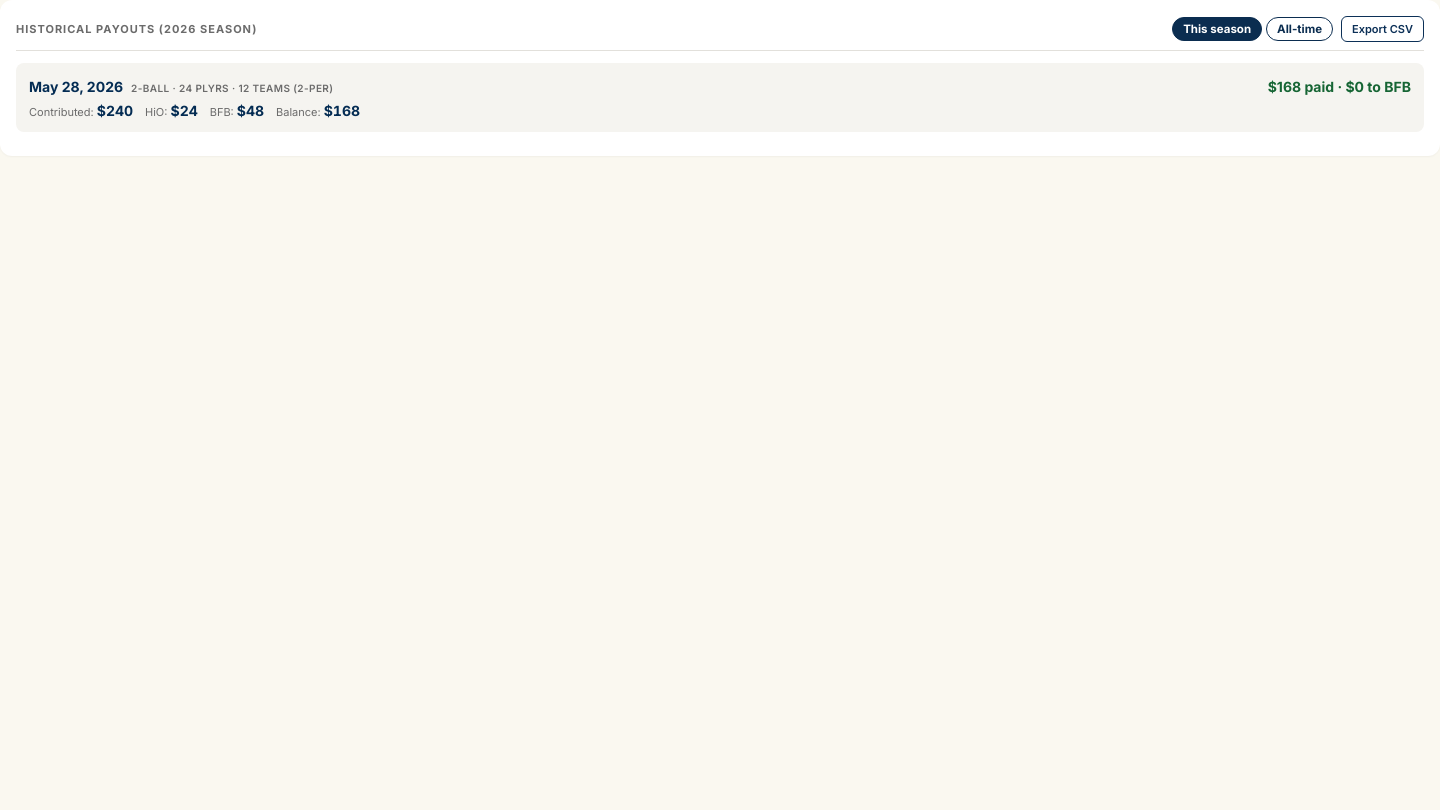
Test case: HistoryPanel › Edit opens the override modal (pre-filled) and gates confirm on a required reason
The image size is (1440, 810).
Click the element with test id "winnings-history-row" at (720, 98), box [16,63,1424,132]
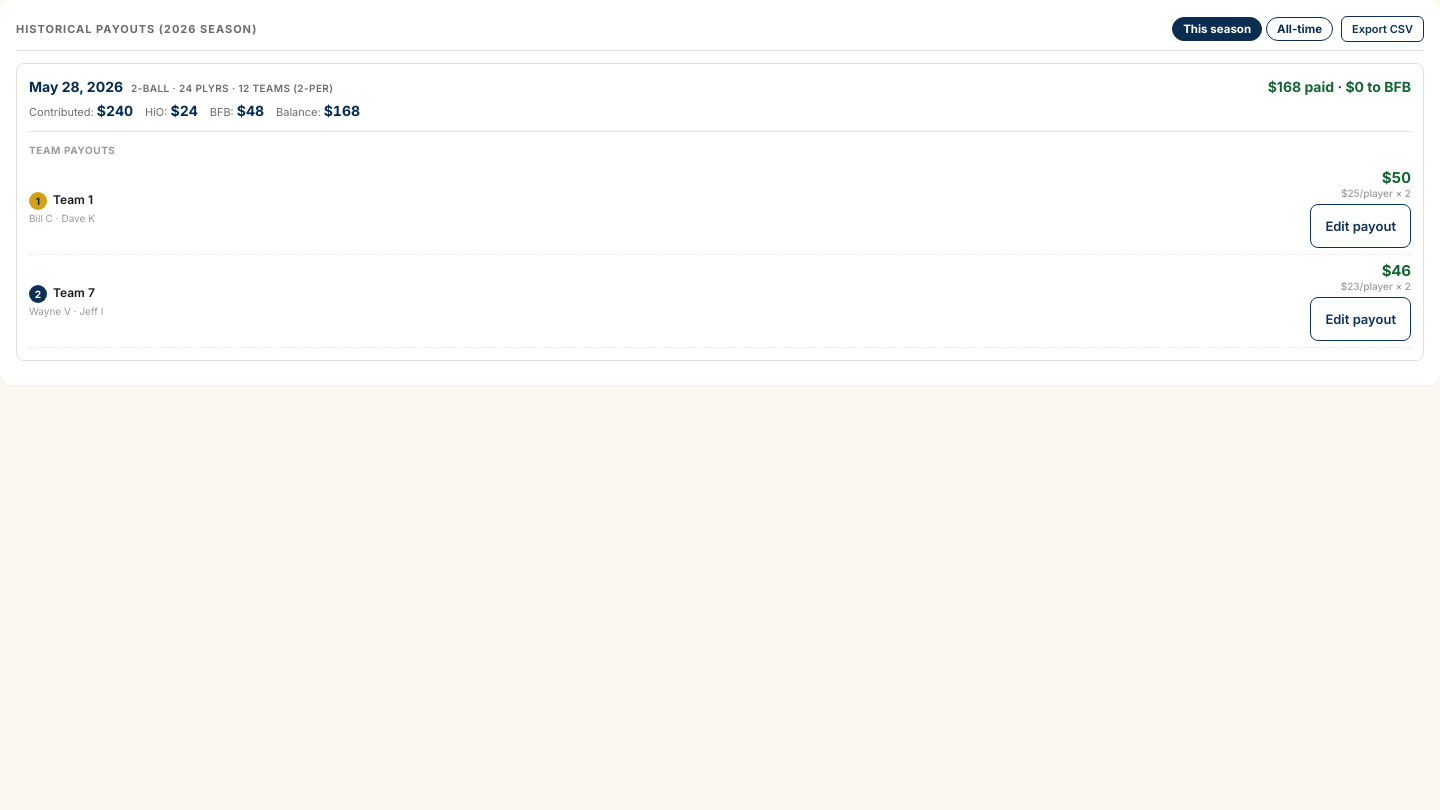
Click the button with test id "payout-edit-btn" below "25" at (1361, 226), box [1310,204,1411,248]
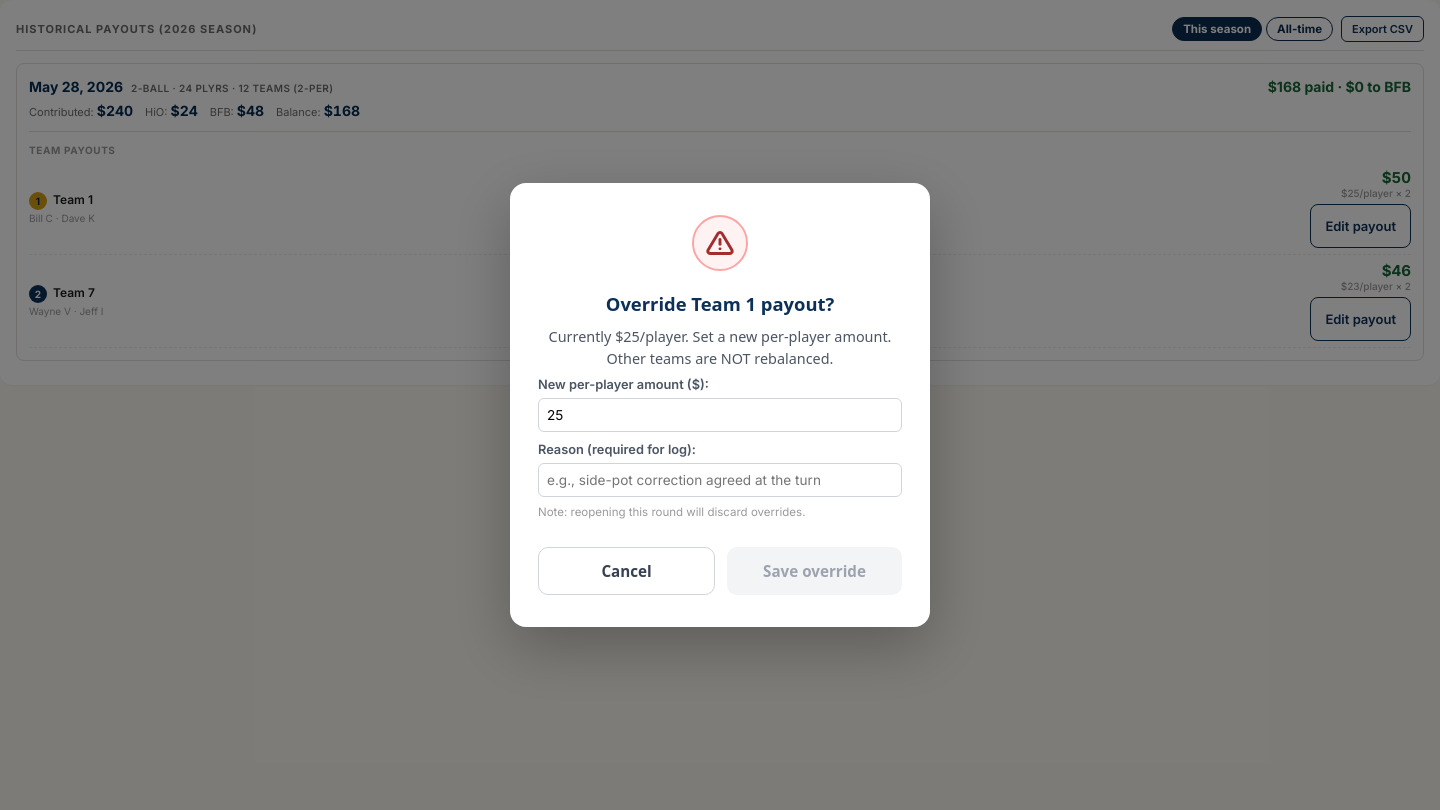
Check: the heading "Override Team 1 payout?" is shown, box [606,291,834,316]
Check: the text "Currently $25/player" is shown, box [548,327,891,368]
Check: the number field named "New per-player payout" holds "25", box [538,398,902,432]
Type "side-pot correction" into the field named "Override reason" at (720, 480), box [538,463,902,497]
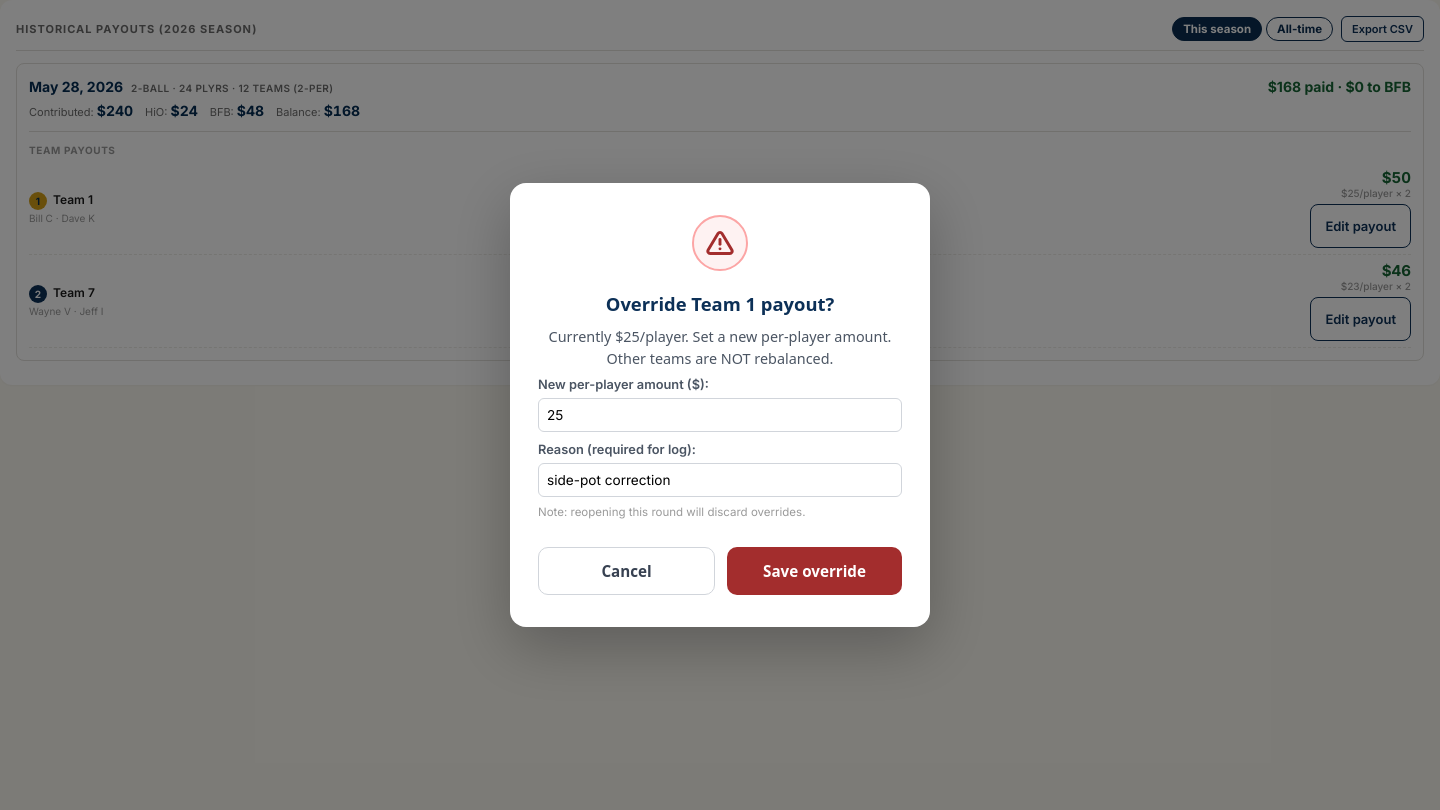
Check: the button "Save override" is enabled, box [727,547,902,595]
